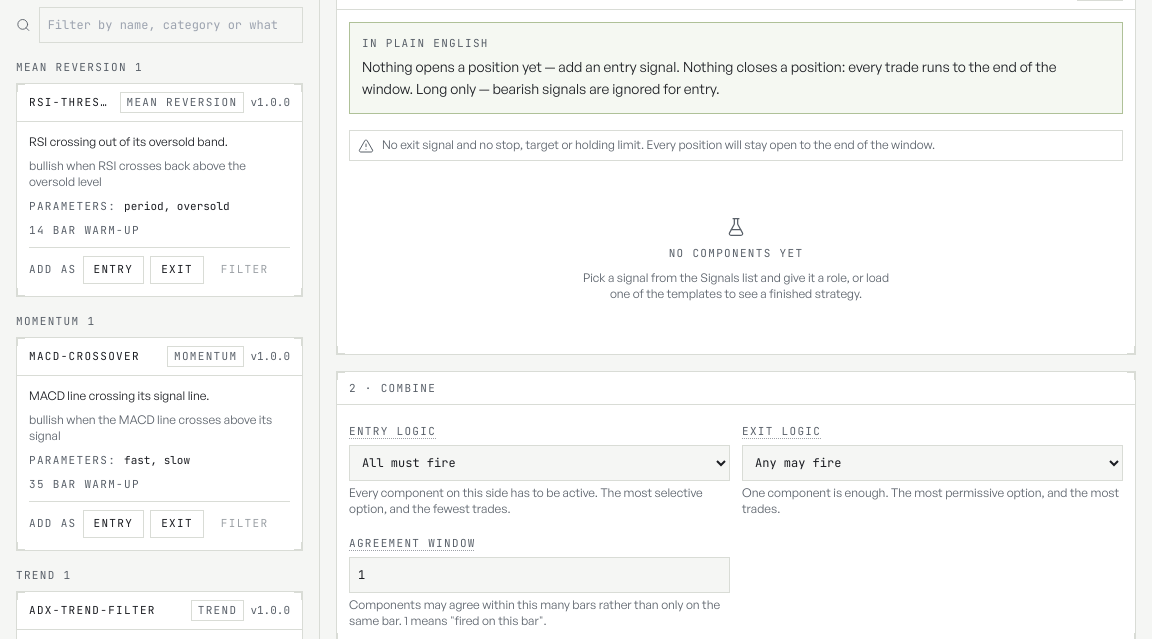
Test: StrategyBuilder › shows per-component weights only once the logic is weighted
Click the button "Entry" below "14".
click(113, 270)  # box x1=82 y1=256 x2=144 y2=284
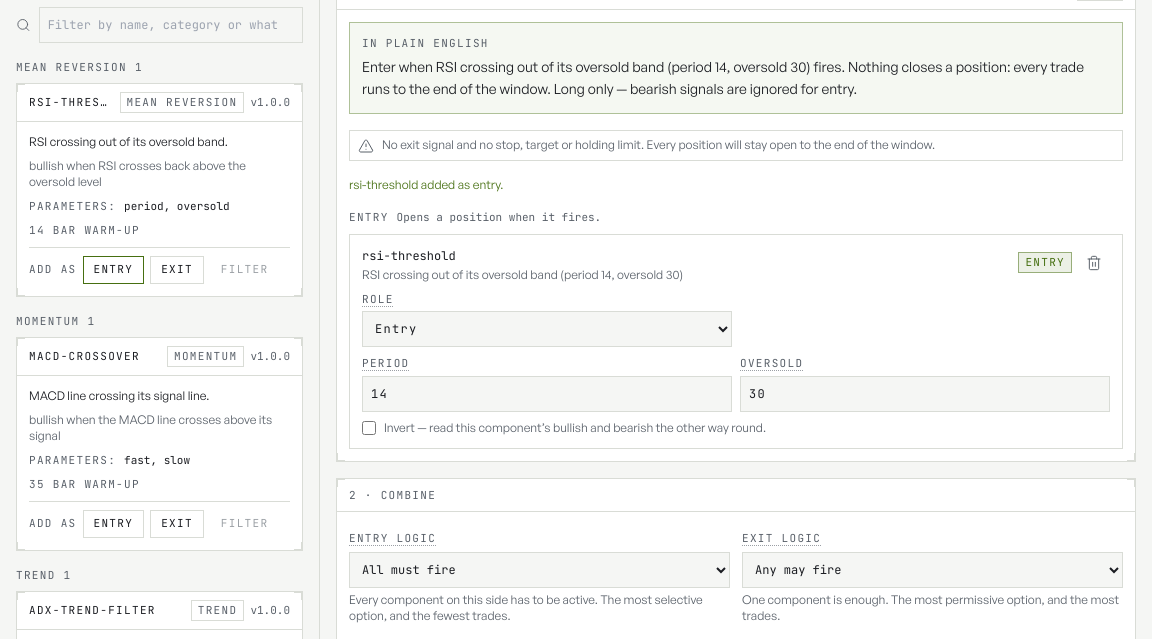
Expected: the field labelled "entry threshold" is not shown
Select "Weighted total" in the dropdown labelled "Entry logic" at (540, 570), box x1=349 y1=552 x2=730 y2=588
(page scrolled)
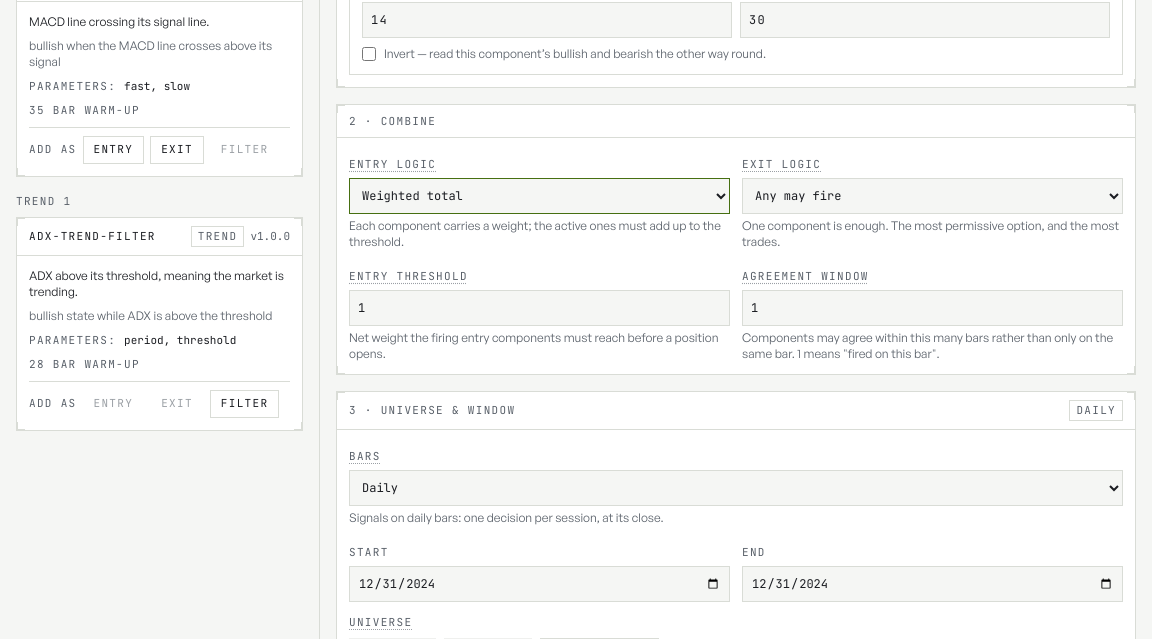
Expected: the number field labelled "Entry threshold" is shown, x1=349 y1=290 x2=730 y2=326
